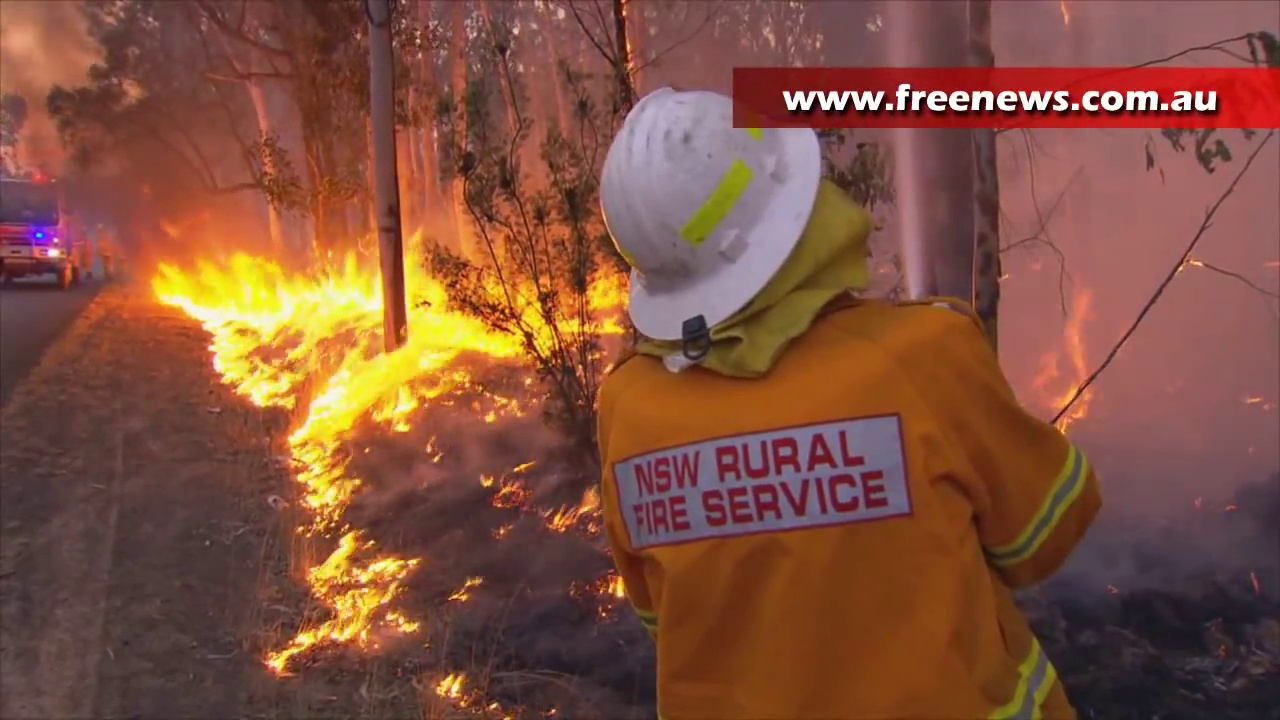fire: (160, 236, 380, 412), (402, 228, 620, 335), (291, 532, 420, 656), (1036, 288, 1092, 423), (293, 415, 348, 519), (552, 482, 599, 527), (435, 672, 466, 704)
